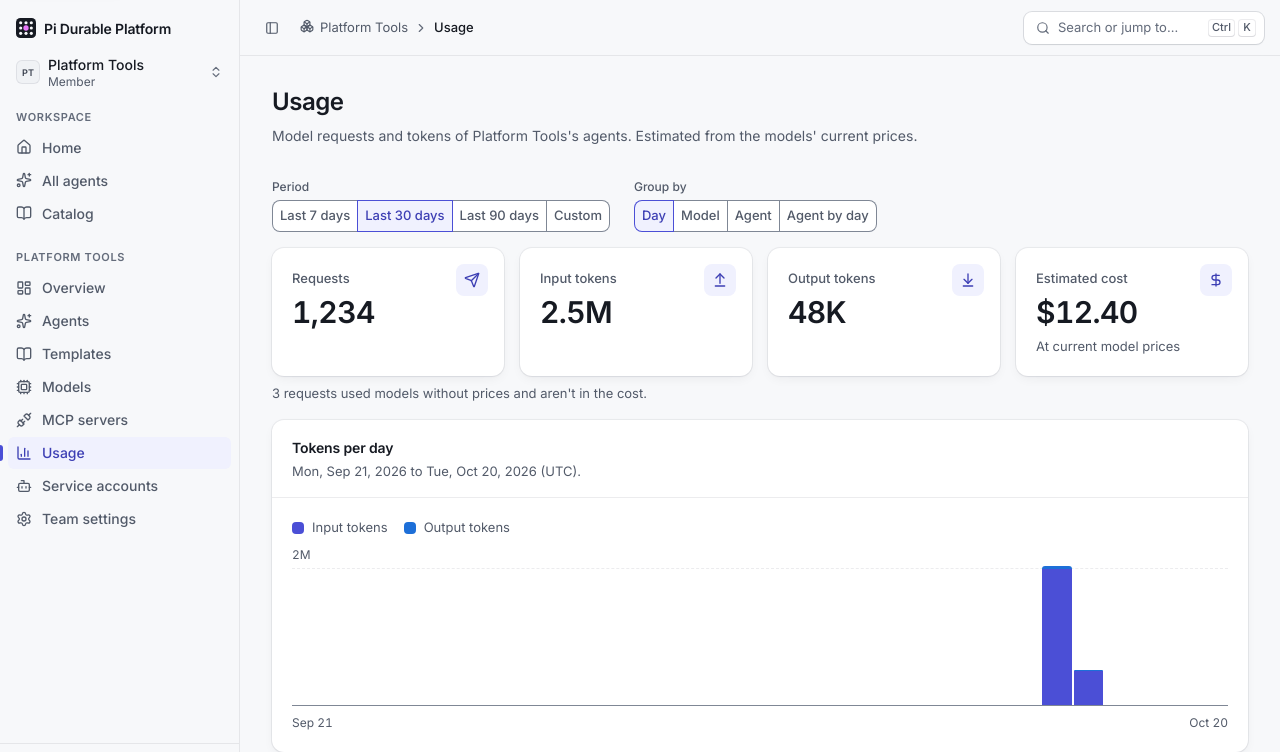
Test: Team › Usage › shows a row per agent and day when grouped by agent and day
Click the button "Agent by day" at (828, 216), box [779,200,877,232]
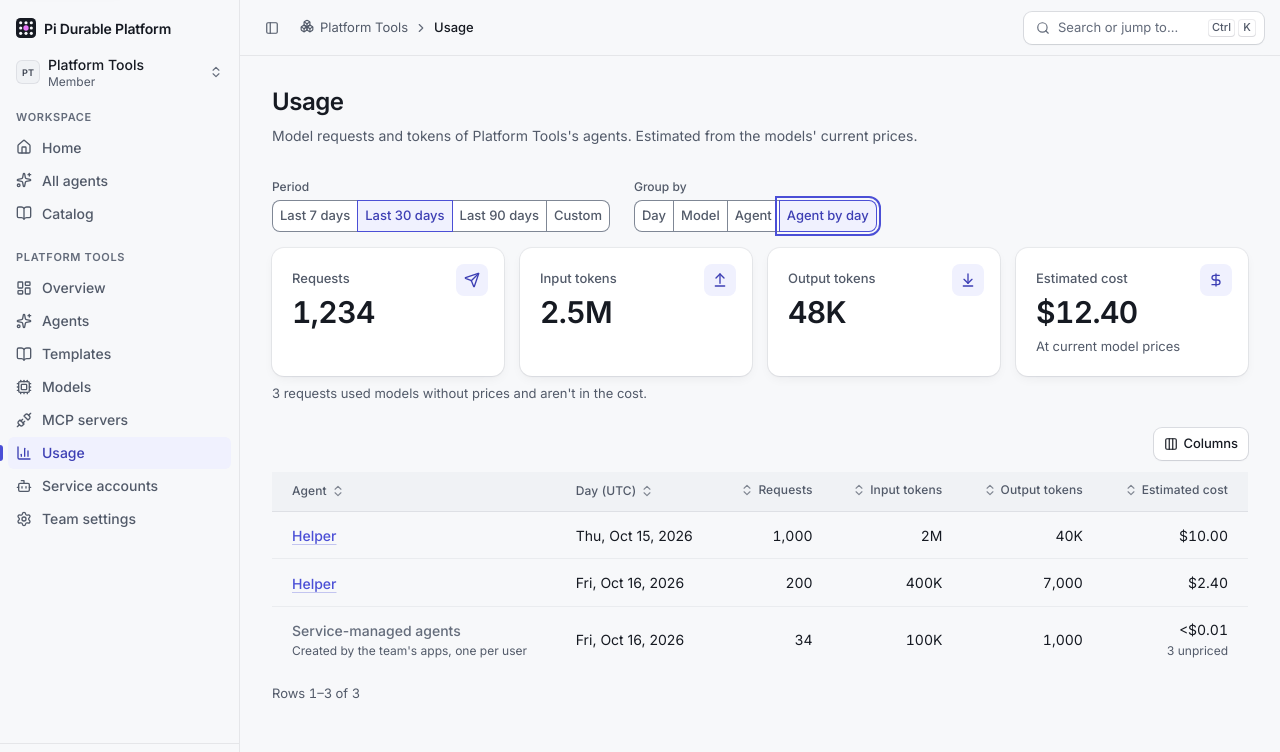
Expected: the link "Helper" in the row of "Thu, Oct 15, 2026" is shown, [292,528,336,544]
Expected: the text "Service-managed agents" is shown, [292,622,461,639]
Expected: the heading "Tokens per day" is gone
